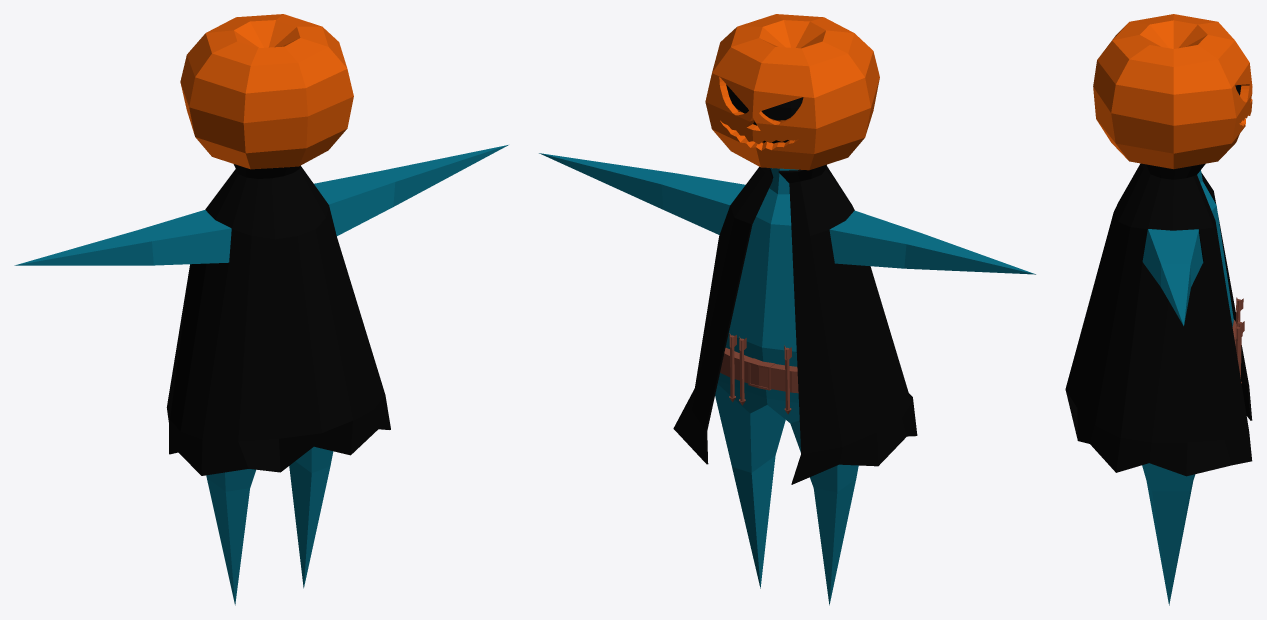
The model's file is Hero.fbx.
The picture shows the model from 3 angles, left to right: view 1: azimuth 30°, elevation 25°; view 2: azimuth 150°, elevation 25°; view 3: azimuth 270°, elevation 25°; orthographic projection.
Visible parts, largest first — view 1: Плащ, Голова, Тело; view 2: Плащ, Тело, Голова, Пояс, Стрела, Sphere; view 3: Плащ, Голова, Тело, Стрела.
Part boxes in pixels (x1,y1,x2,y2): Плащ: (166, 164, 390, 475); Голова: (180, 14, 353, 169); Тело: (14, 145, 508, 605); Плащ: (673, 164, 917, 484); Тело: (539, 153, 1035, 605); Голова: (705, 14, 879, 170); Пояс: (720, 348, 798, 393); Стрела: (729, 333, 791, 414); Sphere: (726, 84, 803, 143); Плащ: (1065, 163, 1252, 476); Голова: (1093, 14, 1252, 169); Тело: (1142, 170, 1233, 605); Стрела: (1235, 297, 1244, 383).
Bounding box in the file's own units: 457 × 496 × 152.
